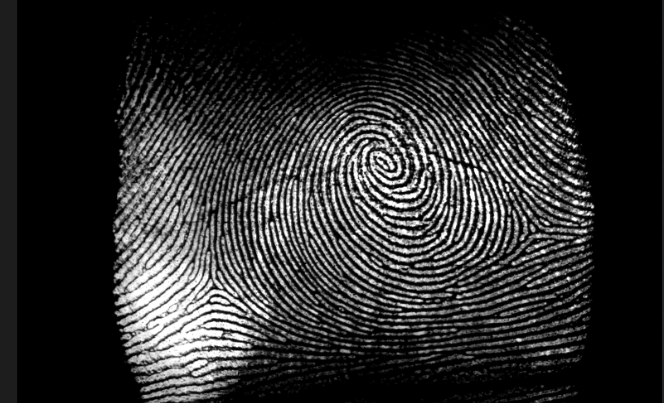nucelo: (359, 141, 403, 181)
verticilo: (516, 212, 552, 243), (195, 269, 232, 298)
